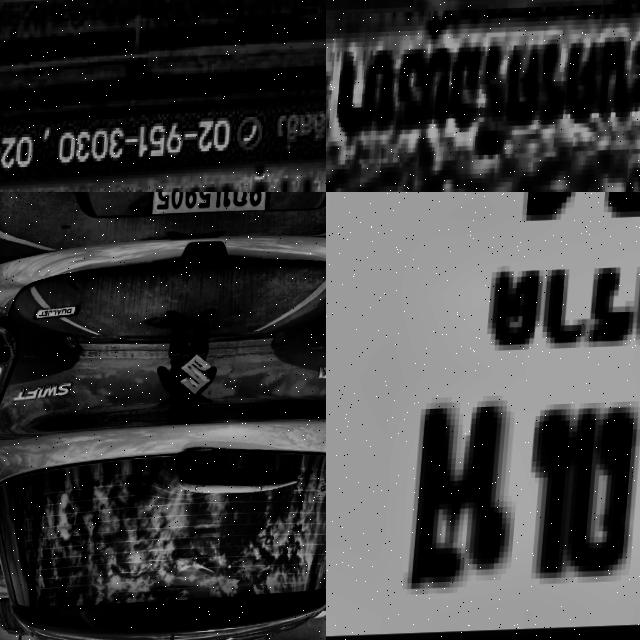license-plate: (326, 192, 640, 640), (326, 0, 640, 192), (0, 103, 326, 192), (151, 192, 277, 221)
